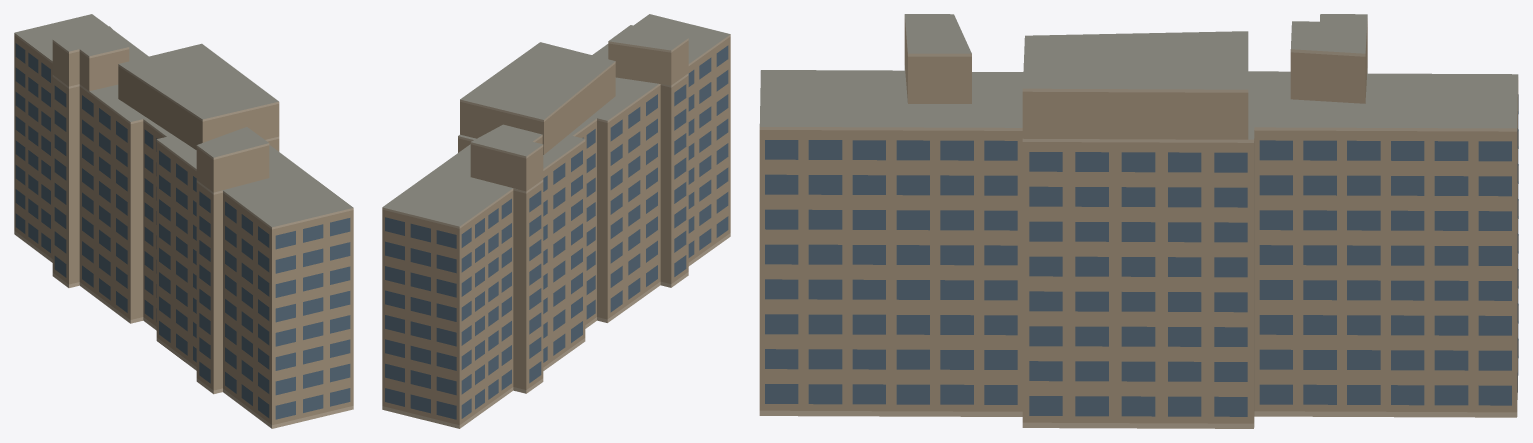
Rendered from dc-au-leonard-hall.glb.
3 renders of one model, left to right at view 1: azimuth 30°, elevation 25°; view 2: azimuth 150°, elevation 25°; view 3: azimuth 270°, elevation 25°, orthographic. The views are drawn at different scales.
Visible parts, largest first — view 1: Leonard Hall; view 2: Leonard Hall; view 3: Leonard Hall.
Part boxes in pixels (x1,y1,x2,y2): Leonard Hall: [14, 14, 353, 428]; Leonard Hall: [382, 14, 730, 428]; Leonard Hall: [759, 14, 1518, 428].
Bounding box in the file's own units: 16.91 × 35.2 × 71.38.
